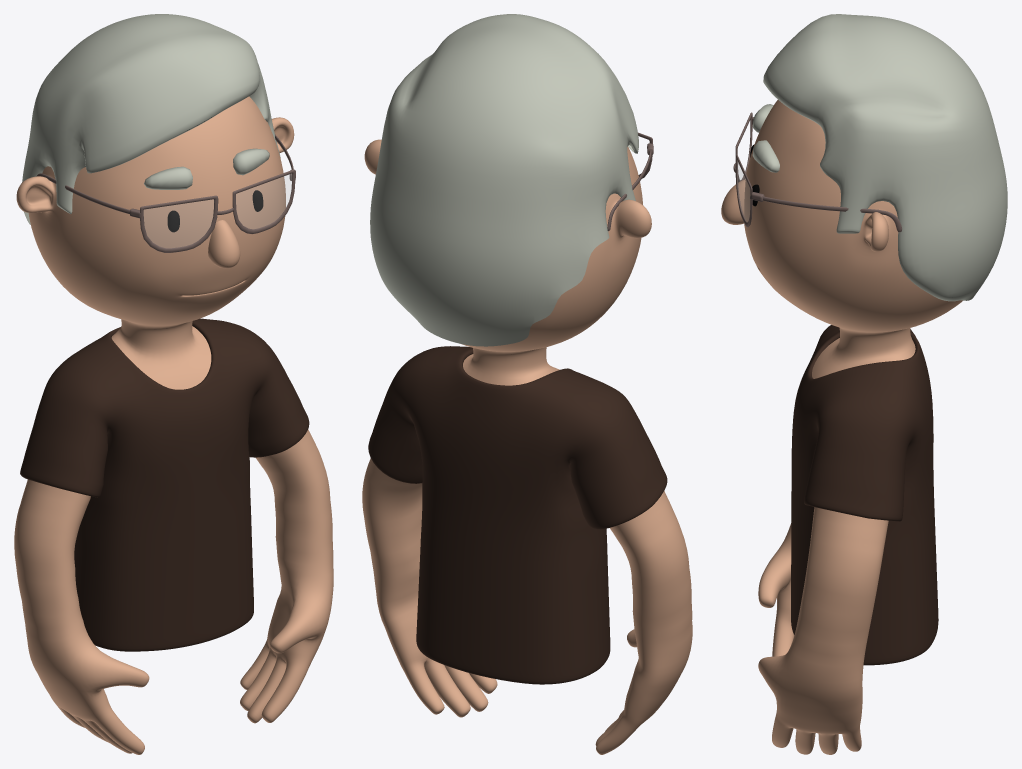
3 renders of one model, left to right at view 1: azimuth 30°, elevation 25°; view 2: azimuth 150°, elevation 25°; view 3: azimuth 270°, elevation 25°, orthographic. The views are drawn at different scales.
Visible parts, largest first — view 1: body, T-shirt, Hair_12, eyeglass_1, Eyebrow.004, nose; view 2: T-shirt, Hair_12, body; view 3: body, Hair_12, T-shirt, eyeglass_1, Eyebrow.004, nose.
Boxes of the visible parts, x1,y1,x2,y2 form: body: [14, 96, 333, 754]; T-shirt: [20, 318, 309, 651]; Hair_12: [22, 14, 280, 224]; eyeglass_1: [36, 134, 295, 252]; Eyebrow.004: [144, 148, 269, 189]; nose: [208, 220, 240, 268]; T-shirt: [368, 346, 667, 684]; Hair_12: [370, 14, 638, 346]; body: [362, 139, 692, 754]; body: [744, 100, 962, 754]; Hair_12: [763, 14, 1007, 301]; T-shirt: [791, 325, 938, 665]; eyeglass_1: [733, 112, 901, 232]; Eyebrow.004: [752, 104, 779, 172]; nose: [721, 179, 745, 224].
Size of the model in its own units: 6.15 by 13.34 by 4.97.
